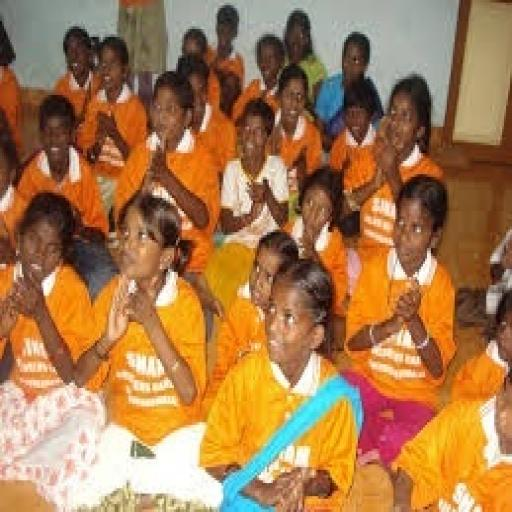clapping: (188, 277, 372, 512), (316, 158, 466, 410), (95, 196, 217, 460), (320, 53, 438, 310), (218, 82, 342, 314), (110, 76, 231, 272), (0, 171, 84, 444), (56, 23, 170, 202)
